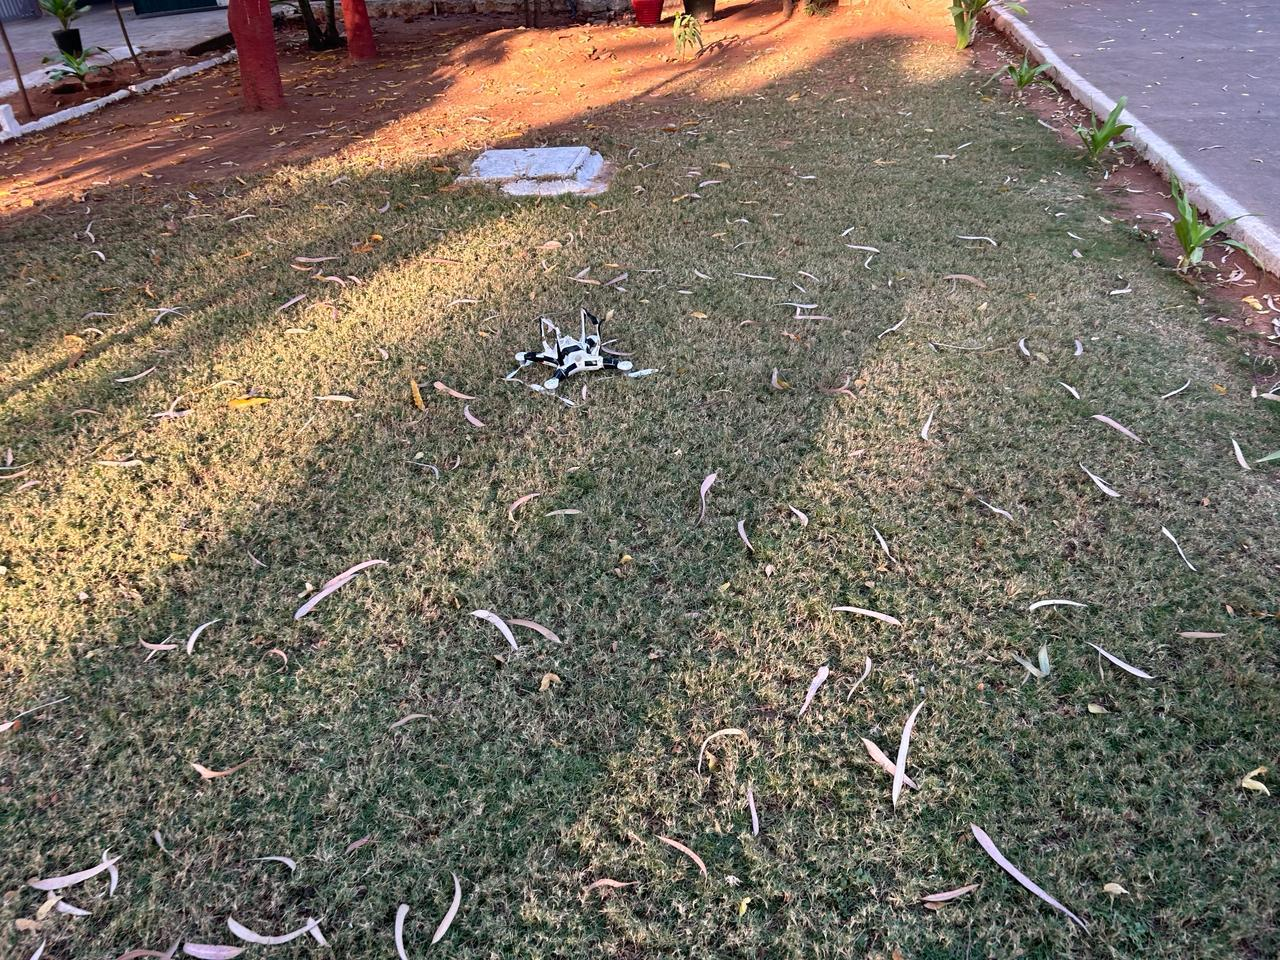drone: (485, 270, 665, 435)
